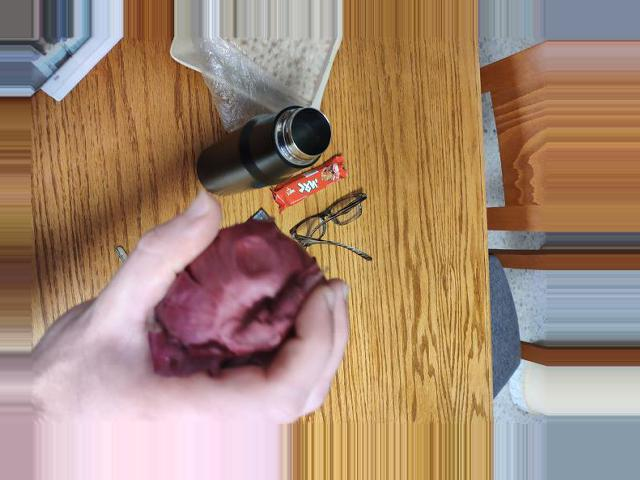onion: (175, 250, 297, 367)
